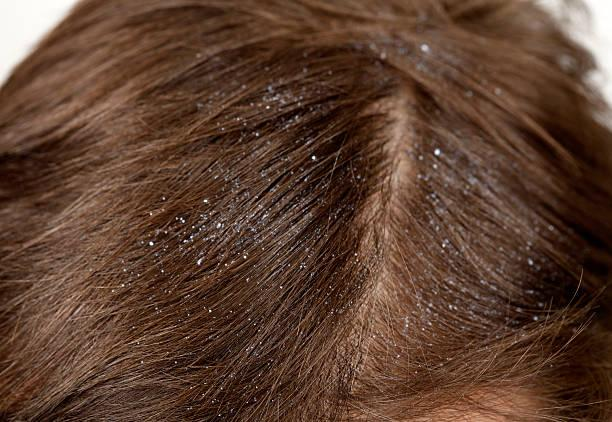dandruff: (146, 152, 329, 276), (420, 145, 521, 323), (261, 229, 365, 322), (264, 74, 348, 183), (413, 32, 437, 58)
